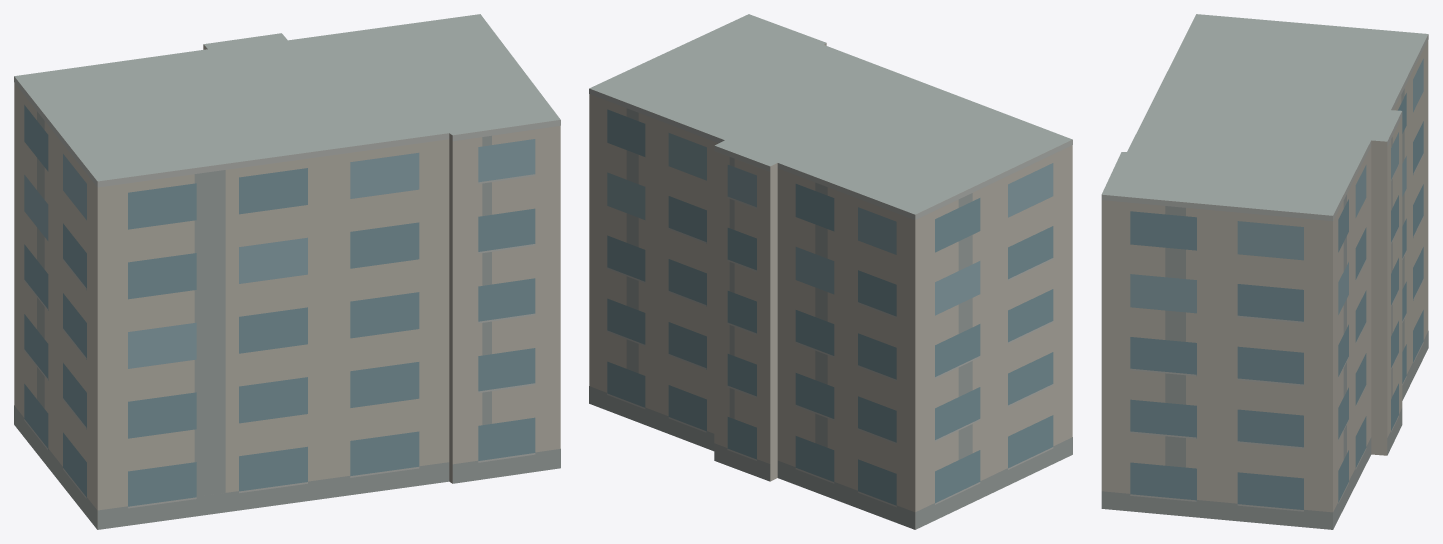
The model's file is survey-upis-32634751.glb.
3 views of the same model, side by side, from view 1: azimuth 30°, elevation 25°; view 2: azimuth 150°, elevation 25°; view 3: azimuth 270°, elevation 25° (orthographic). The views are drawn at different scales.
Parts seen in each view (by area): view 1: survey-upis-32634751.tmp; view 2: survey-upis-32634751.tmp; view 3: survey-upis-32634751.tmp.
Boxes of the visible parts, box(x1,y1,x2,y2) form: survey-upis-32634751.tmp: box(14, 14, 560, 529); survey-upis-32634751.tmp: box(589, 14, 1072, 529); survey-upis-32634751.tmp: box(1101, 14, 1428, 529).
Size of the model in its own units: 19.37 by 14.05 by 13.27.
